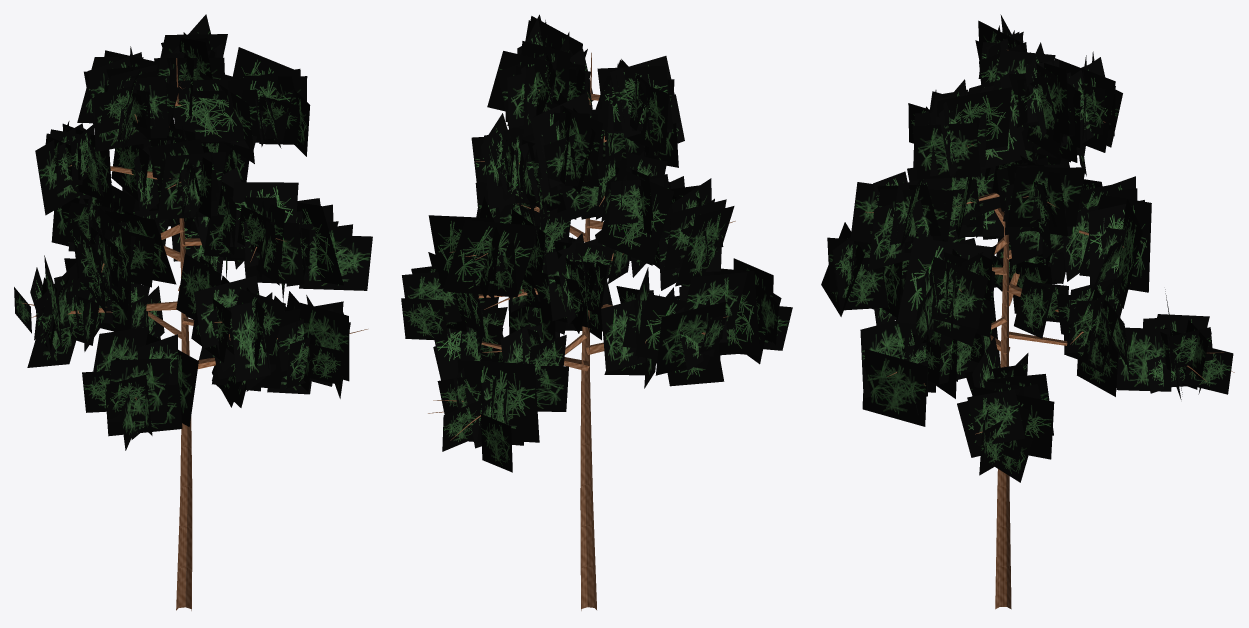
The model's file is Pine_Dense_LOD1.glb.
3 views of the same model, side by side, from view 1: azimuth 30°, elevation 25°; view 2: azimuth 150°, elevation 25°; view 3: azimuth 270°, elevation 25° (orthographic).
Visible parts, largest first — view 1: Leaves_16, Leaves_01, Leaves_11, Leaves_06, Leaves_04, Leaves_12, Leaves_09, Leaves_03, Leaves_17, Leaves_14, Leaves_08, Leaves_18 (+7 smaller); view 2: Leaves_04, Leaves_02, Leaves_10, Leaves_12, Leaves_18, Leaves_15, Leaves_17, Leaves_09, Leaves_07, Leaves_05, Leaves_13, Leaves_01 (+7 smaller); view 3: Leaves_11, Leaves_00, Leaves_10, Leaves_03, Leaves_08, Leaves_02, Leaves_16, Leaves_05, Leaves_18, Leaves_13, Leaves_06, Leaves_15 (+7 smaller).
Boxes of the visible parts, x1,y1,x2,y2 form: Leaves_16: [170, 47, 310, 163]; Leaves_01: [82, 322, 198, 450]; Leaves_11: [191, 167, 304, 285]; Leaves_06: [176, 253, 285, 382]; Leaves_04: [14, 255, 149, 367]; Leaves_12: [35, 121, 159, 216]; Leaves_09: [71, 208, 176, 313]; Leaves_03: [214, 292, 349, 398]; Leaves_17: [94, 64, 179, 152]; Leaves_14: [148, 125, 225, 226]; Leaves_08: [281, 198, 372, 301]; Leaves_18: [154, 14, 227, 117]; Leaves_04: [601, 267, 747, 386]; Leaves_02: [437, 335, 568, 472]; Leaves_10: [428, 184, 570, 300]; Leaves_12: [562, 150, 673, 265]; Leaves_18: [487, 32, 593, 137]; Leaves_15: [530, 92, 606, 196]; Leaves_17: [595, 56, 680, 154]; Leaves_09: [642, 178, 734, 290]; Leaves_07: [530, 233, 613, 333]; Leaves_05: [401, 252, 540, 340]; Leaves_13: [471, 113, 576, 219]; Leaves_01: [604, 258, 792, 388]; Leaves_11: [850, 167, 1000, 270]; Leaves_00: [957, 336, 1054, 482]; Leaves_10: [1009, 183, 1151, 308]; Leaves_03: [860, 320, 992, 426]; Leaves_08: [897, 238, 996, 355]; Leaves_02: [1064, 289, 1233, 399]; Leaves_16: [912, 79, 1027, 179]; Leaves_05: [1014, 272, 1129, 379]; Leaves_18: [993, 42, 1075, 157]; Leaves_13: [992, 146, 1085, 250]; Leaves_06: [821, 222, 975, 317]; Leaves_15: [1023, 51, 1122, 162].
Bounding box in the file's own units: 9.98 × 17.55 × 11.54.
2 materials, 2 textured.
